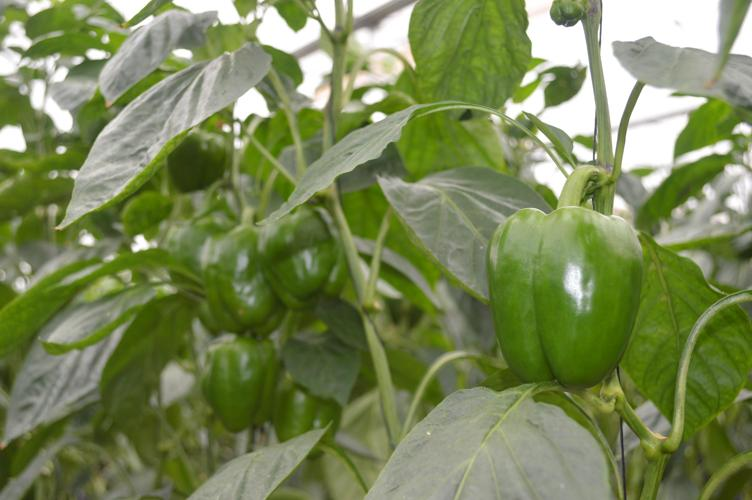BellPepper: (475, 205, 652, 405), (250, 204, 358, 312), (191, 330, 280, 423), (270, 383, 346, 472), (197, 233, 273, 320), (158, 127, 237, 202)
